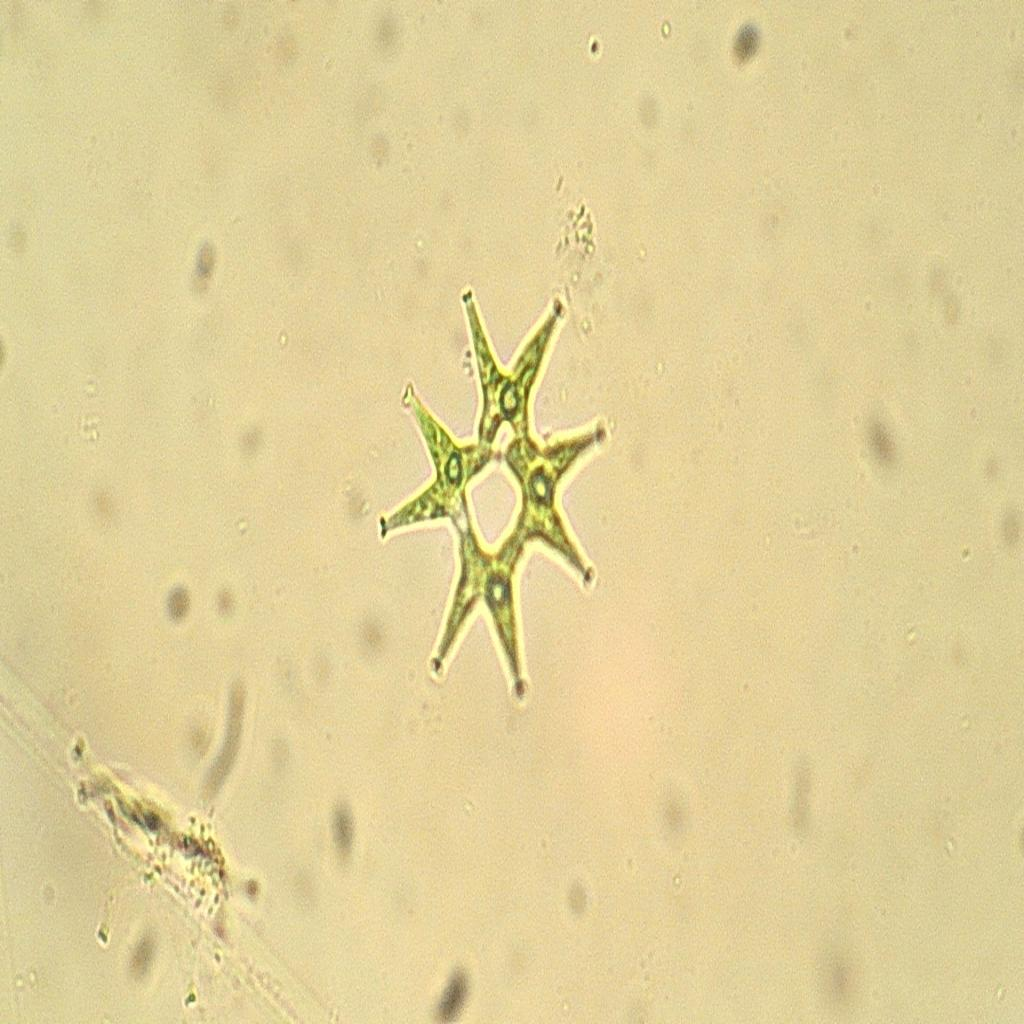Pediastrum_75FO: (368, 264, 626, 724)
